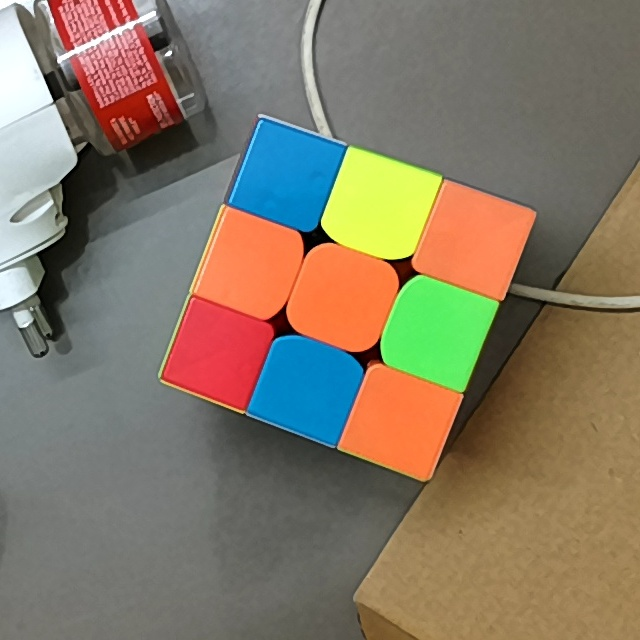tile: (400, 296, 474, 369), (436, 206, 512, 276), (342, 167, 414, 237), (270, 354, 346, 420), (250, 144, 325, 210), (365, 392, 438, 458), (304, 268, 377, 332), (184, 322, 254, 381), (216, 238, 284, 297)
